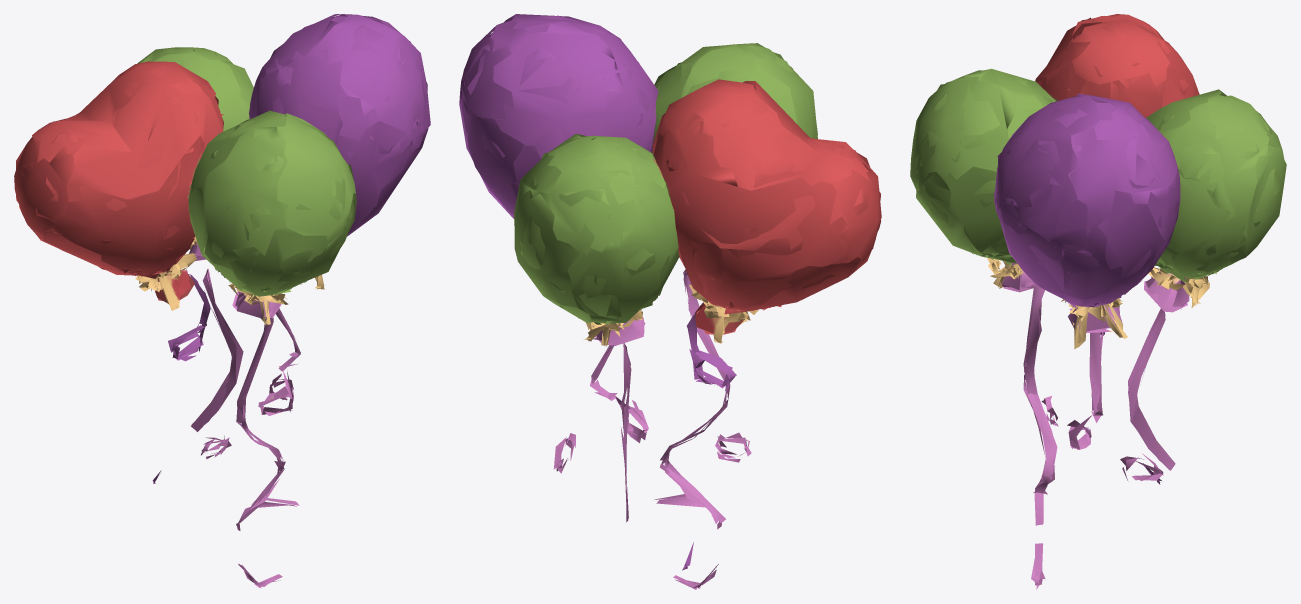
Rendered from ribbon-balloons-lod.glb.
The picture shows the model from 3 angles, left to right: view 1: azimuth 30°, elevation 25°; view 2: azimuth 150°, elevation 25°; view 3: azimuth 270°, elevation 25°; orthographic projection. The views are drawn at different scales.
Visible parts, largest first — view 1: world; view 2: world; view 3: world.
Boxes of the visible parts, box(x1,y1,x2,y2) form: world: box(14, 14, 430, 588); world: box(459, 14, 881, 589); world: box(910, 14, 1286, 589).
Bounding box in the file's own units: 0.4669 × 0.6057 × 0.3851.
1 material, 1 textured.
